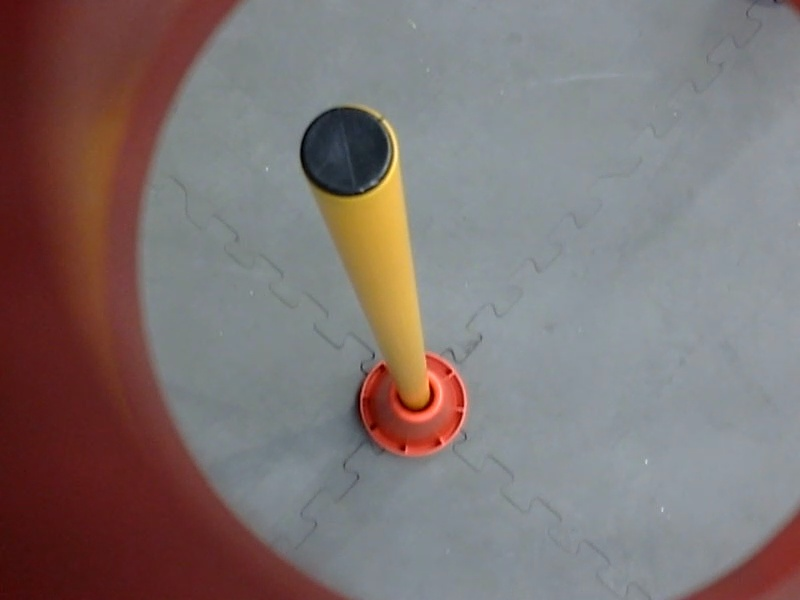tip: (287, 93, 407, 212)
